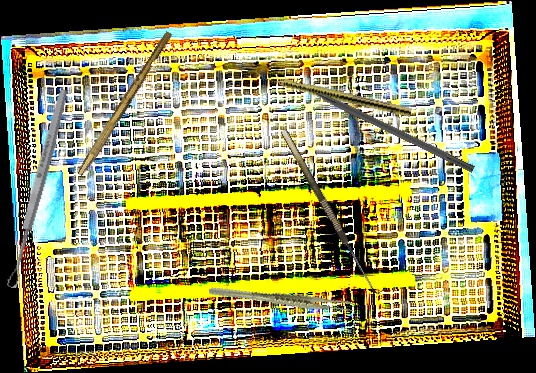Handpiece: (253, 70, 413, 118)
Hook Surgical: (280, 123, 387, 298), (293, 77, 477, 173)
Scalpel Handle: (76, 28, 174, 180)
Surgical Spoon: (4, 87, 71, 290)
Tissue Forceps: (208, 260, 355, 337)
